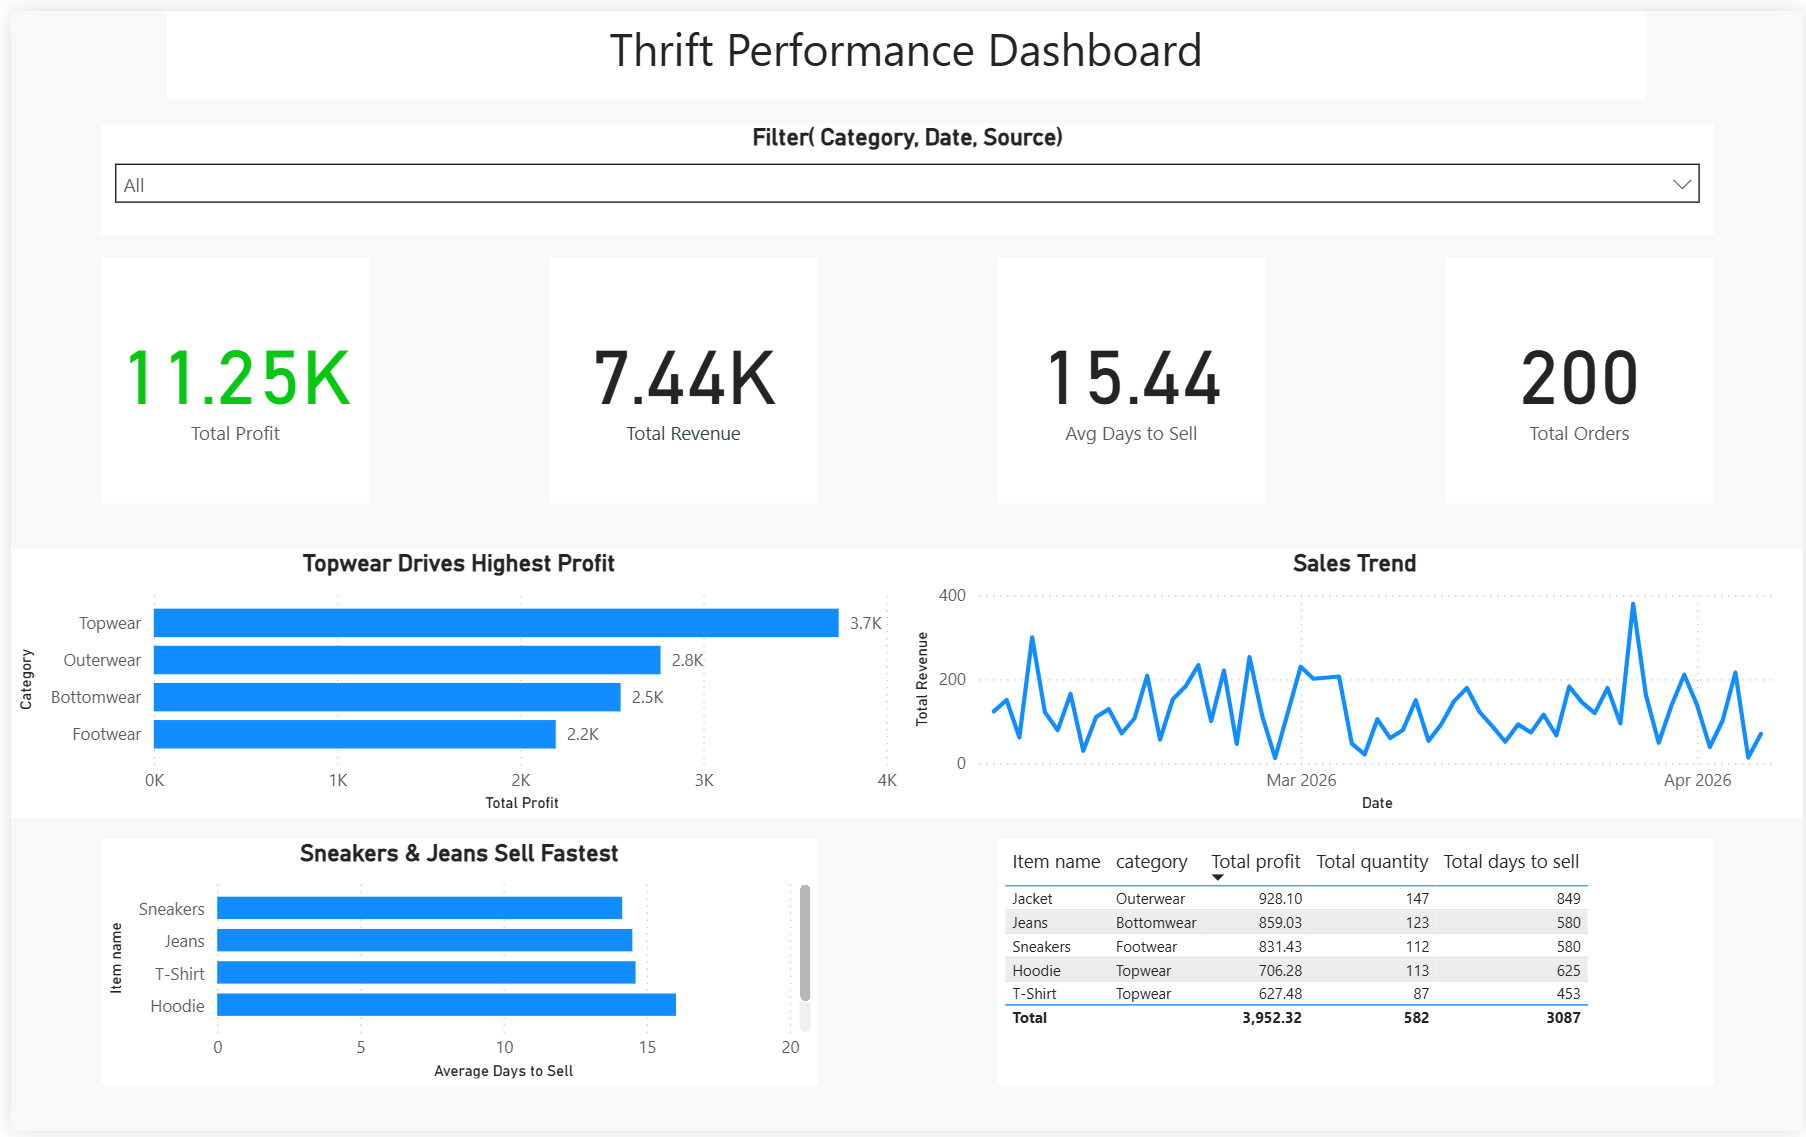

What the dashboard file says about the page in this screenshot:
{"tool":"powerbi","page":{"name":"Thrift data overview","canvas":[1280,800],"ordinal":0},"visuals":[{"type":"textbox","box":[112,0,1056,64],"z":0},{"type":"card","fields":{"Values":["thrift_data.Total Profit"]},"box":[64,176,192,176],"z":1000},{"type":"card","fields":{"Values":["thrift_data.Total Revenue"]},"box":[384,176,192,176],"z":2000},{"type":"card","fields":{"Values":["thrift_data.Avg Days to Sell"]},"box":[704,176,192,176],"z":3000},{"type":"card","fields":{"Values":["thrift_data.Total Orders"]},"box":[1024,176,192,176],"z":4000},{"type":"barChart","title":"Topwear Drives Highest Profit","fields":{"Category":["thrift_data.category"],"Y":["thrift_data.Total Profit"]},"box":[0,384,640,192],"z":5000},{"type":"lineChart","title":"Sales Trend","fields":{"Category":["thrift_data.date"],"Y":["thrift_data.Total Revenue"]},"box":[640,384,640,192],"z":6000},{"type":"barChart","title":"Sneakers & Jeans Sell Fastest","fields":{"Category":["thrift_data.item_name"],"Y":["thrift_data.Avg Days to Sell"]},"box":[64,592,512,176],"z":7000},{"type":"tableEx","fields":{"Values":["thrift_data.item_name","thrift_data.category","Sum(thrift_data.profit)","Sum(thrift_data.quantity)","Sum(thrift_data.days_to_sell)"]},"box":[704,592,512,176],"z":8000},{"type":"slicer","title":"Filter( Category, Date, Source)","fields":{"Values":["thrift_data.category","thrift_data.source","thrift_data.date"]},"box":[64,80,1152,80],"z":9000}]}

Visuals, with their boxes in screenshot pixels (x1, y1, x2, y2), scaled from the page's 1280x800 canvas onto the 1806x1137 screenshot:
textbox: region(158, 0, 1648, 91)
card - thrift_data.Total Profit: region(90, 250, 361, 500)
card - thrift_data.Total Revenue: region(542, 250, 813, 500)
card - thrift_data.Avg Days to Sell: region(993, 250, 1264, 500)
card - thrift_data.Total Orders: region(1445, 250, 1716, 500)
"Topwear Drives Highest Profit" barChart: region(0, 546, 903, 819)
"Sales Trend" lineChart: region(903, 546, 1805, 819)
"Sneakers & Jeans Sell Fastest" barChart: region(90, 841, 813, 1092)
tableEx - thrift_data.item_name x thrift_data.category: region(993, 841, 1716, 1092)
"Filter( Category, Date, Source)" slicer: region(90, 114, 1716, 227)
